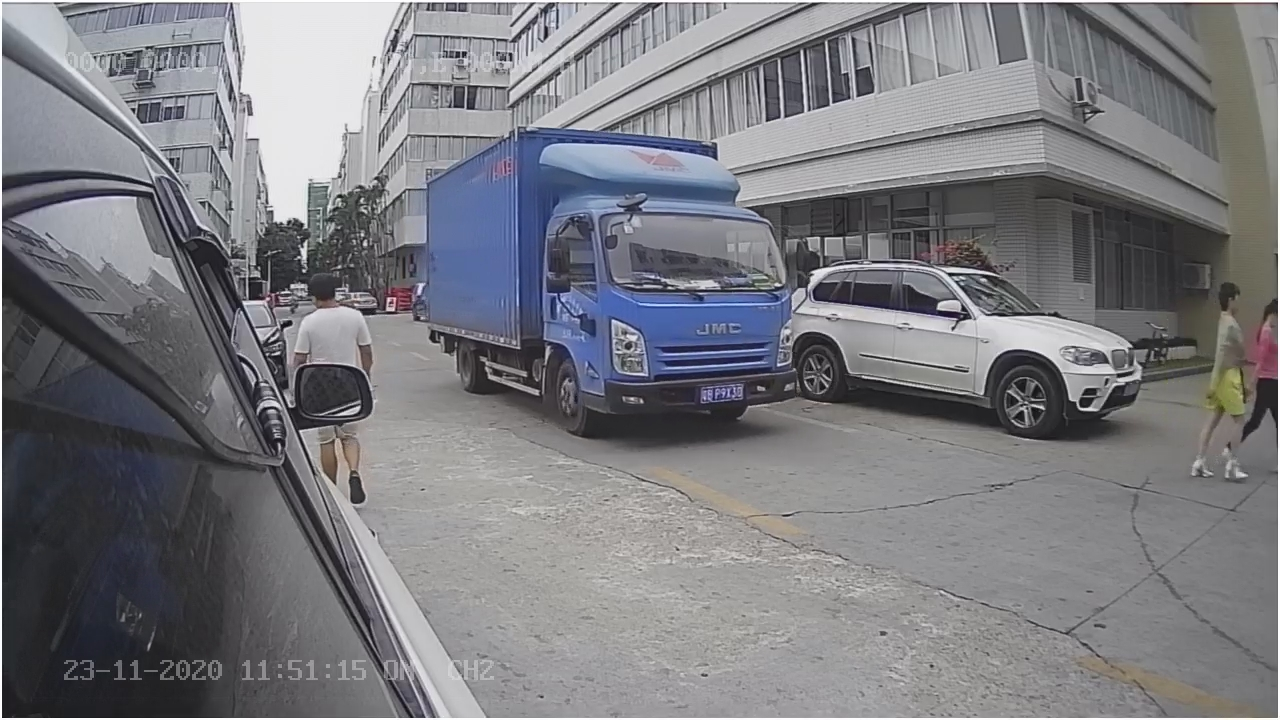person: (1185, 274, 1262, 486)
